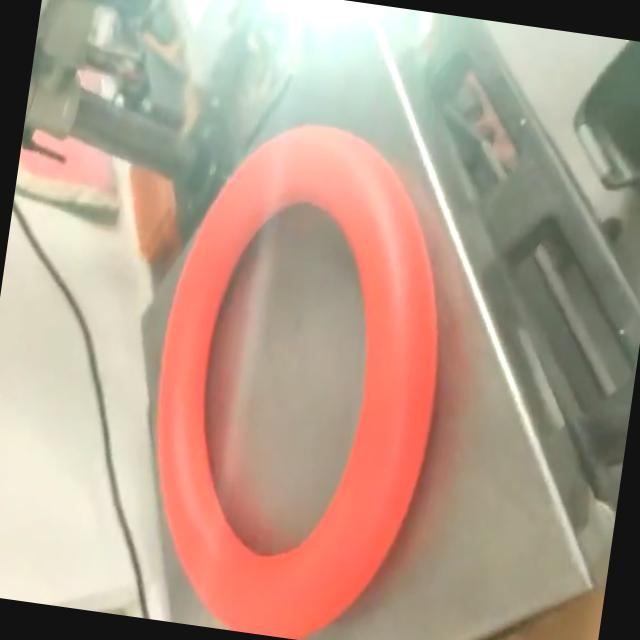note: (117, 97, 475, 640)
